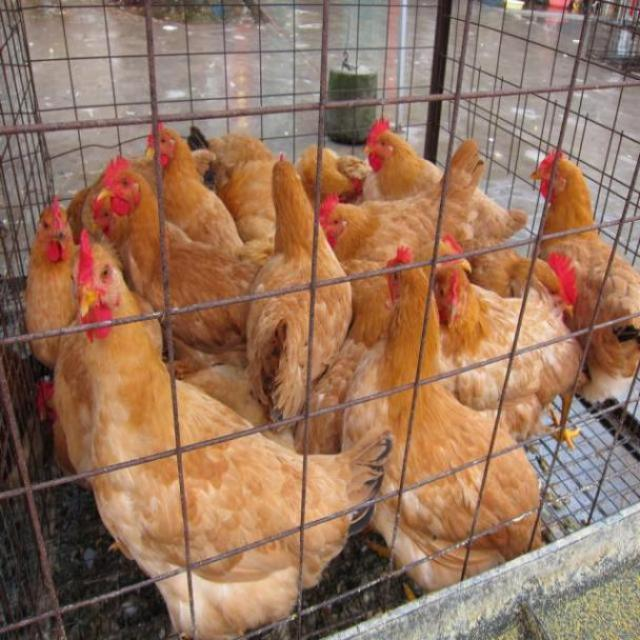Chicken: (71, 235, 387, 636), (381, 249, 547, 587), (94, 150, 277, 348), (529, 144, 640, 455), (440, 230, 589, 452), (241, 148, 353, 436), (312, 136, 485, 299), (356, 118, 532, 248), (15, 194, 129, 365), (140, 117, 249, 255), (66, 153, 217, 244), (192, 130, 289, 187), (217, 155, 278, 243), (293, 141, 375, 204), (88, 190, 124, 256)
